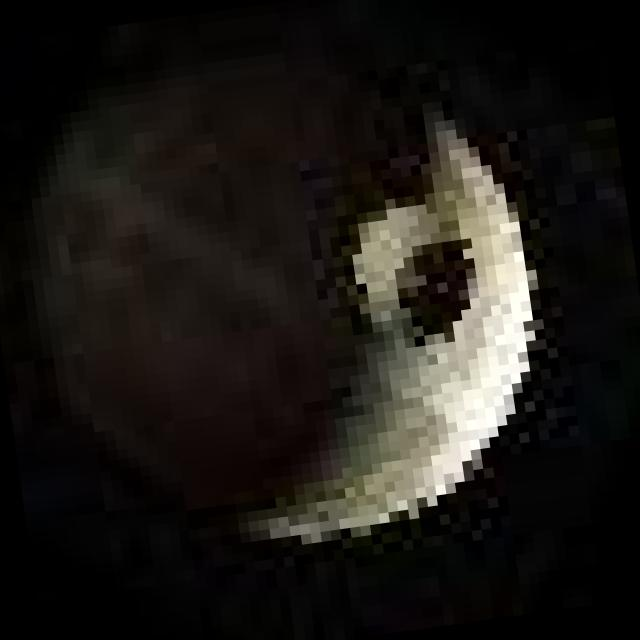Death Star: (6, 35, 566, 574)
